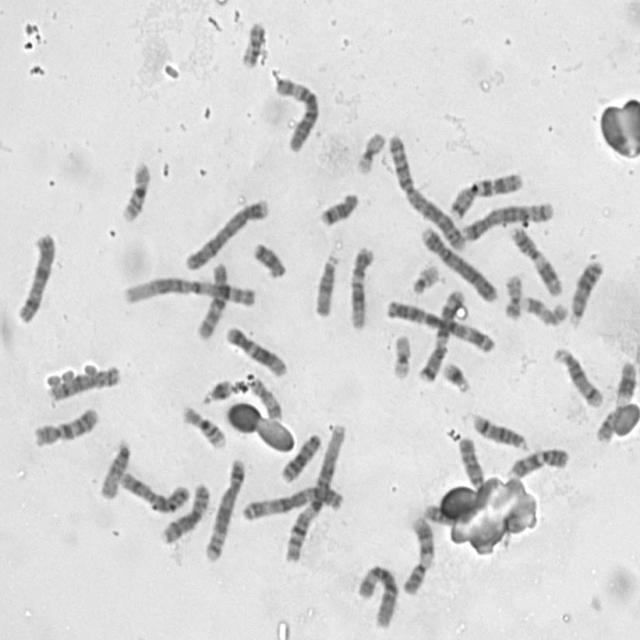A1: (280, 419, 349, 565), (121, 272, 259, 308)
A2: (384, 129, 468, 253), (417, 434, 497, 526)
A3: (381, 294, 497, 354), (238, 481, 346, 523)
B4: (182, 194, 271, 272), (418, 221, 500, 303)
B5: (200, 454, 247, 562), (460, 196, 558, 242)
C10: (29, 402, 101, 448), (193, 257, 231, 341)
C11: (506, 220, 565, 298), (594, 357, 638, 445)
C12: (222, 322, 288, 378), (344, 242, 376, 331)
C6: (270, 72, 322, 154), (353, 560, 400, 630)
C7: (415, 284, 466, 383), (447, 166, 527, 220)
C8: (157, 478, 211, 545), (44, 361, 121, 403)
C9: (398, 510, 438, 596), (502, 442, 570, 480)
D13: (566, 254, 606, 328), (278, 428, 324, 484)
D14: (548, 343, 605, 409), (469, 408, 530, 451)
D15: (95, 438, 131, 500), (311, 250, 341, 318)
E16: (178, 401, 228, 451), (117, 156, 153, 224)
E17: (516, 290, 569, 328), (246, 373, 283, 423)
E18: (316, 187, 361, 228), (248, 237, 288, 280)
F19: (353, 126, 388, 176), (388, 330, 413, 381)
F20: (238, 18, 266, 69), (500, 269, 524, 321)
G21: (438, 356, 472, 394), (198, 373, 235, 406)
G22: (409, 259, 441, 295)
X: (12, 229, 57, 324), (115, 467, 192, 515)
